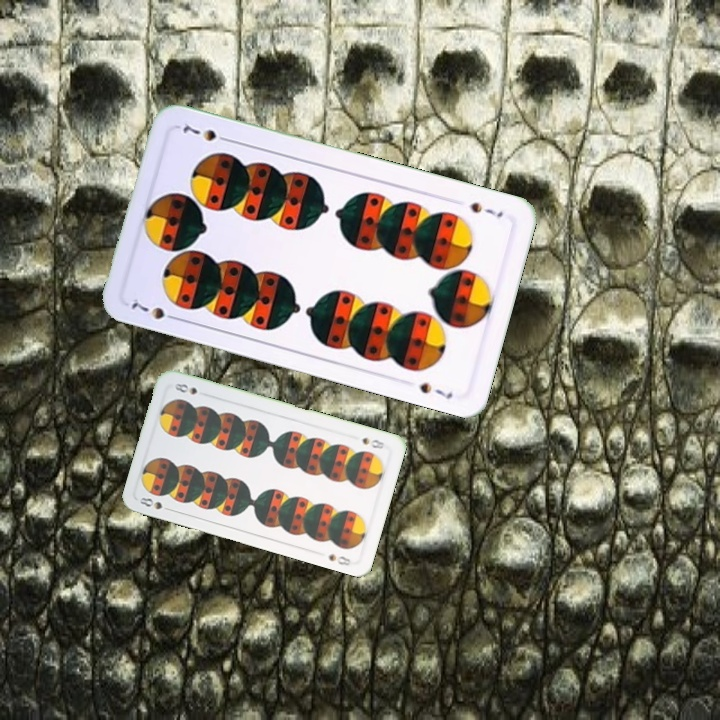S7: (124, 294, 182, 324), (465, 198, 506, 220)
S8: (136, 493, 175, 514), (358, 433, 387, 452)
